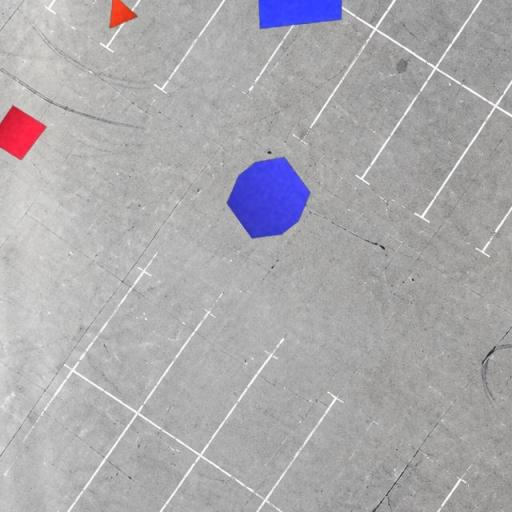RED_SQUARE: (0, 104, 47, 162)
